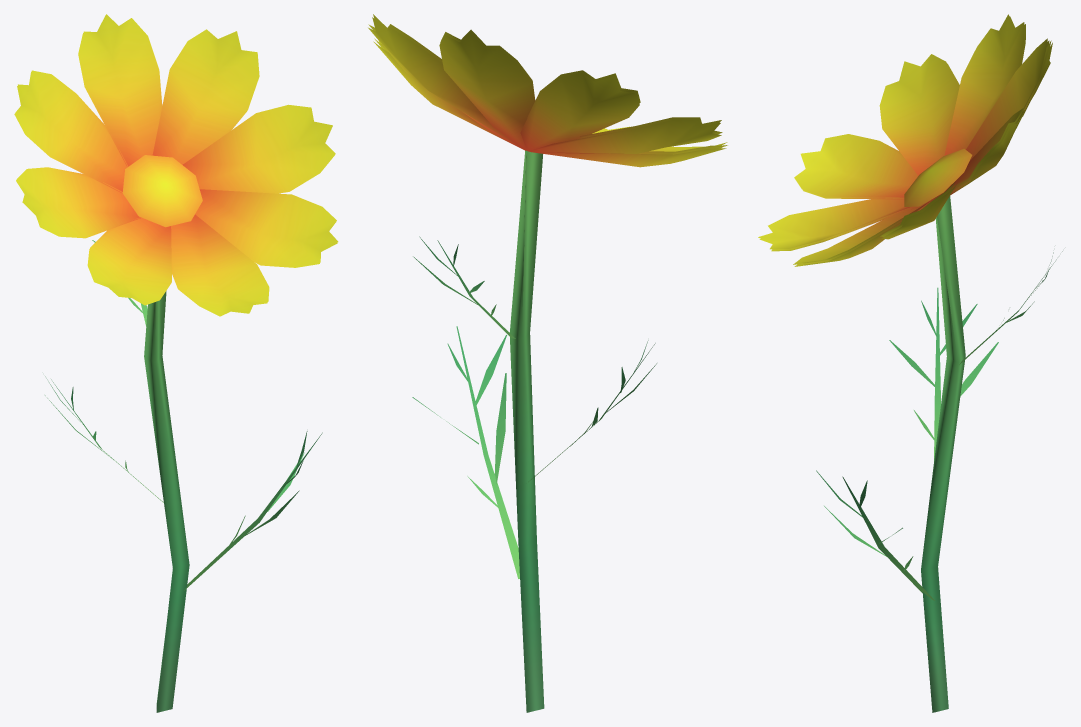
Rendered from Cosmos_Yellow.fbx.
3 renders of one model, left to right at view 1: azimuth 30°, elevation 25°; view 2: azimuth 150°, elevation 25°; view 3: azimuth 270°, elevation 25°, orthographic. The views are drawn at different scales.
Visible parts, largest first — view 1: Cosmos_Yellow; view 2: Cosmos_Yellow; view 3: Cosmos_Yellow.
Part boxes in pixels (bbox=[...]): Cosmos_Yellow: bbox=[14, 14, 338, 712]; Cosmos_Yellow: bbox=[368, 14, 727, 712]; Cosmos_Yellow: bbox=[758, 14, 1062, 712].
Size of the model in its own units: 33.43 by 67.43 by 28.23.
